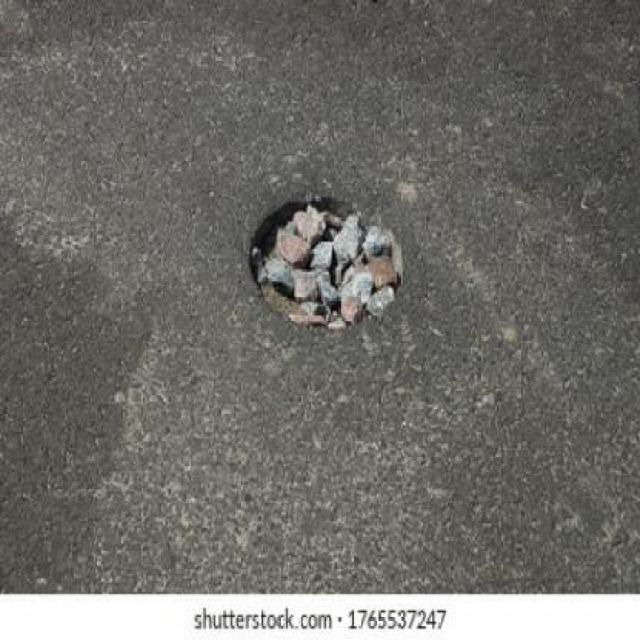Pothole: (240, 192, 409, 334)
